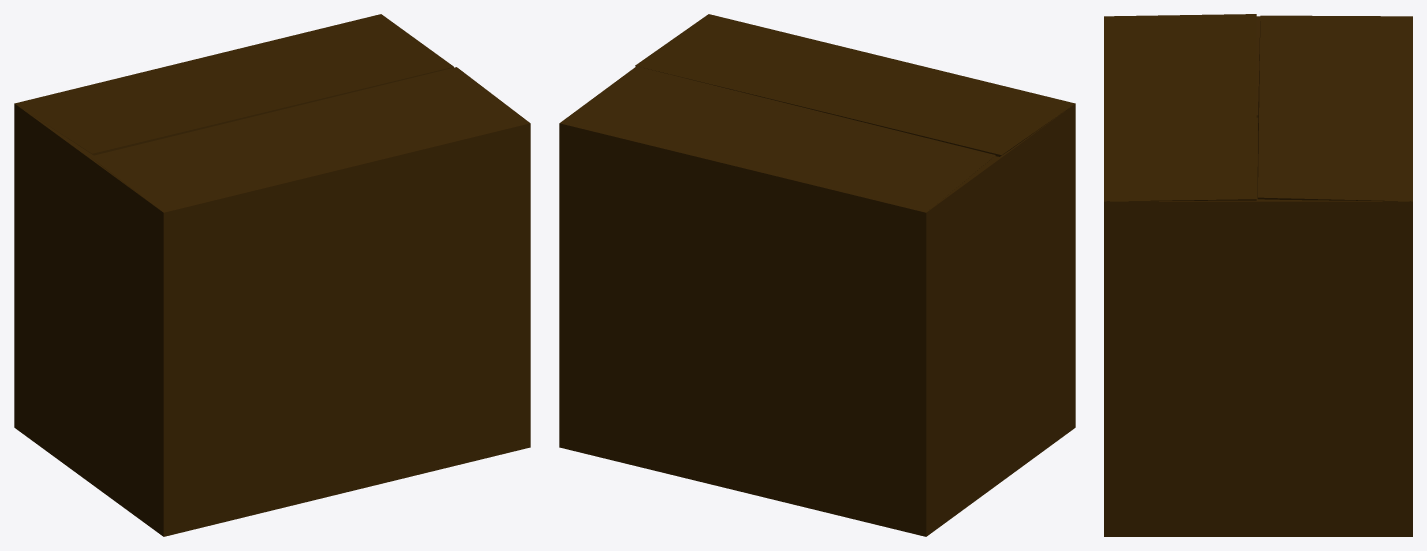
The picture shows the model from 3 angles, left to right: view 1: azimuth 30°, elevation 25°; view 2: azimuth 150°, elevation 25°; view 3: azimuth 270°, elevation 25°; orthographic projection. The views are drawn at different scales.
Visible parts, largest first — view 1: Cube.016; view 2: Cube.016; view 3: Cube.016.
Boxes of the visible parts, <box> form: Cube.016: <box>14,14,530,536</box>; Cube.016: <box>559,14,1075,536</box>; Cube.016: <box>1104,14,1412,536</box>.
Bounding box in the file's own units: 200 × 170 × 141.
